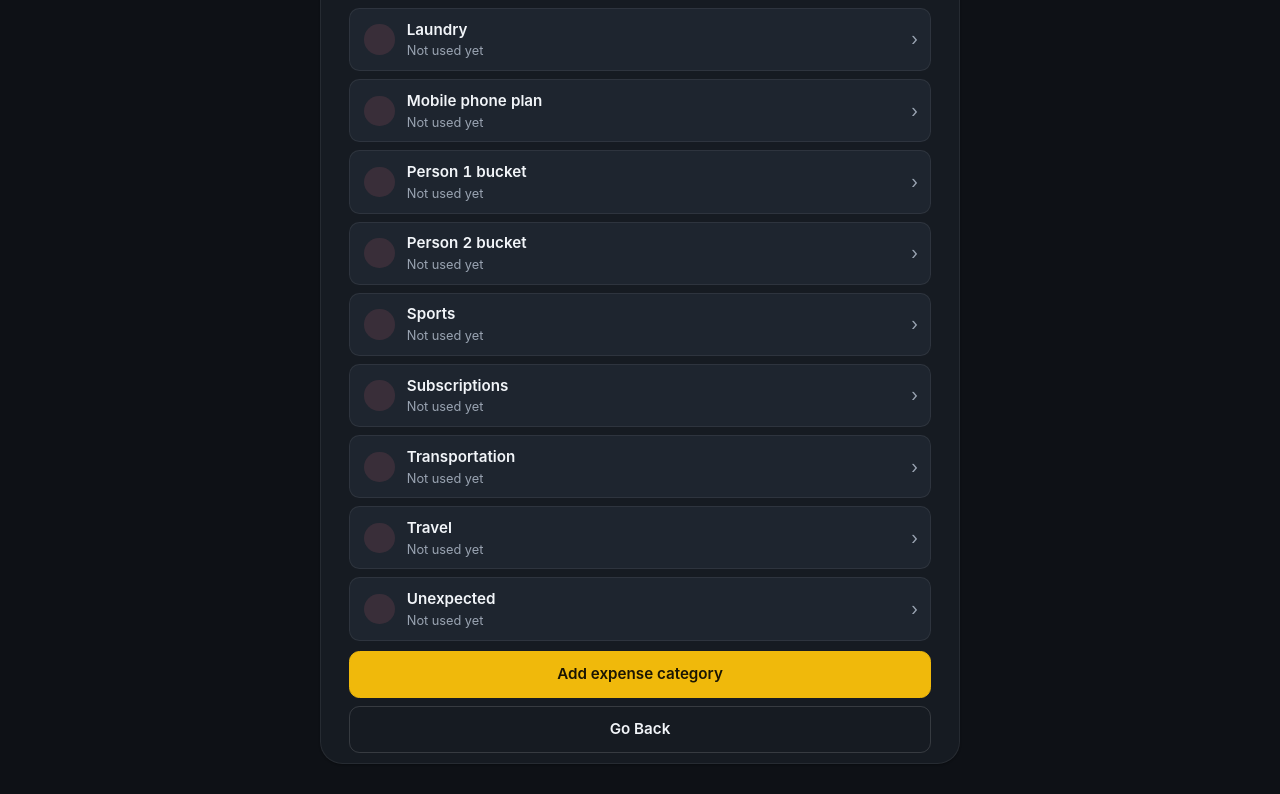
category + bucket creation (issue #100) › rejects an empty category name
(page scrolled)
Click the button "Add expense category" at (640, 674), box [349,651,931,698]
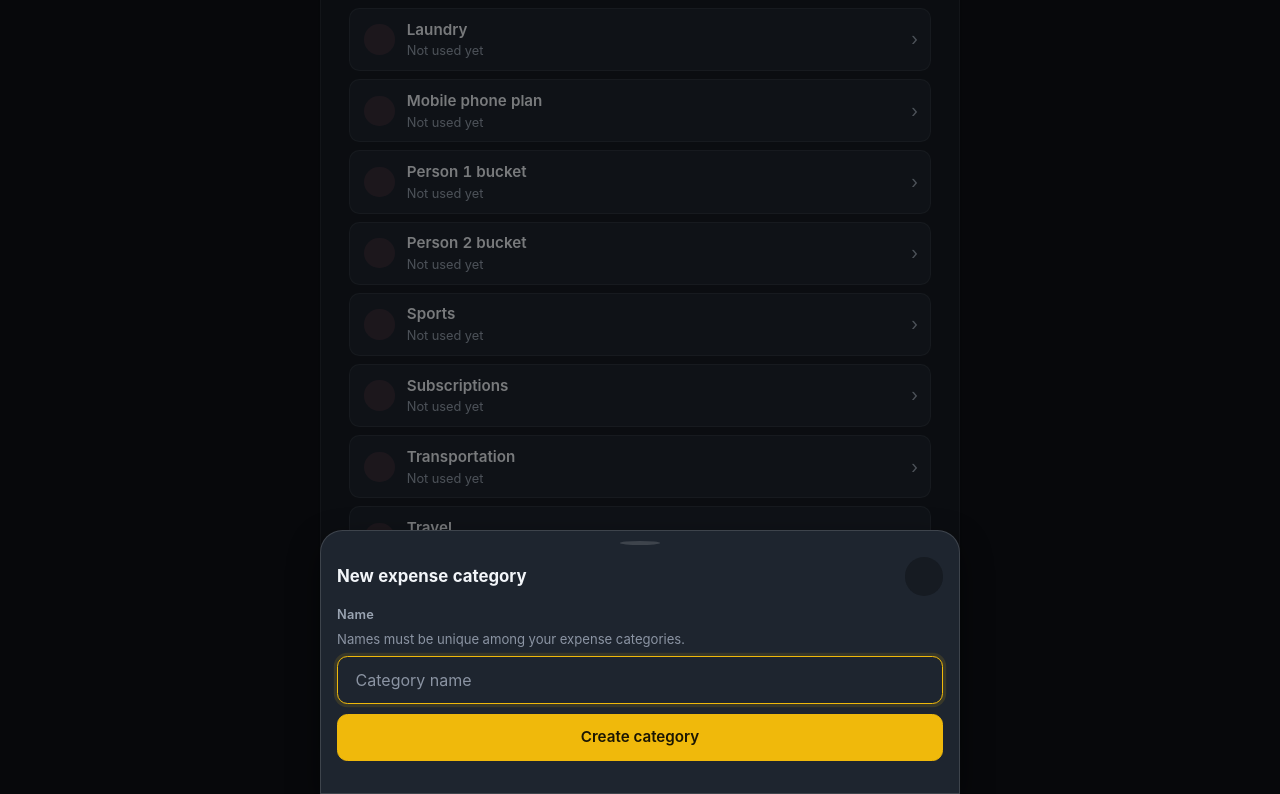
Click the button "Create category" at (640, 737), box [337,714,943,761]
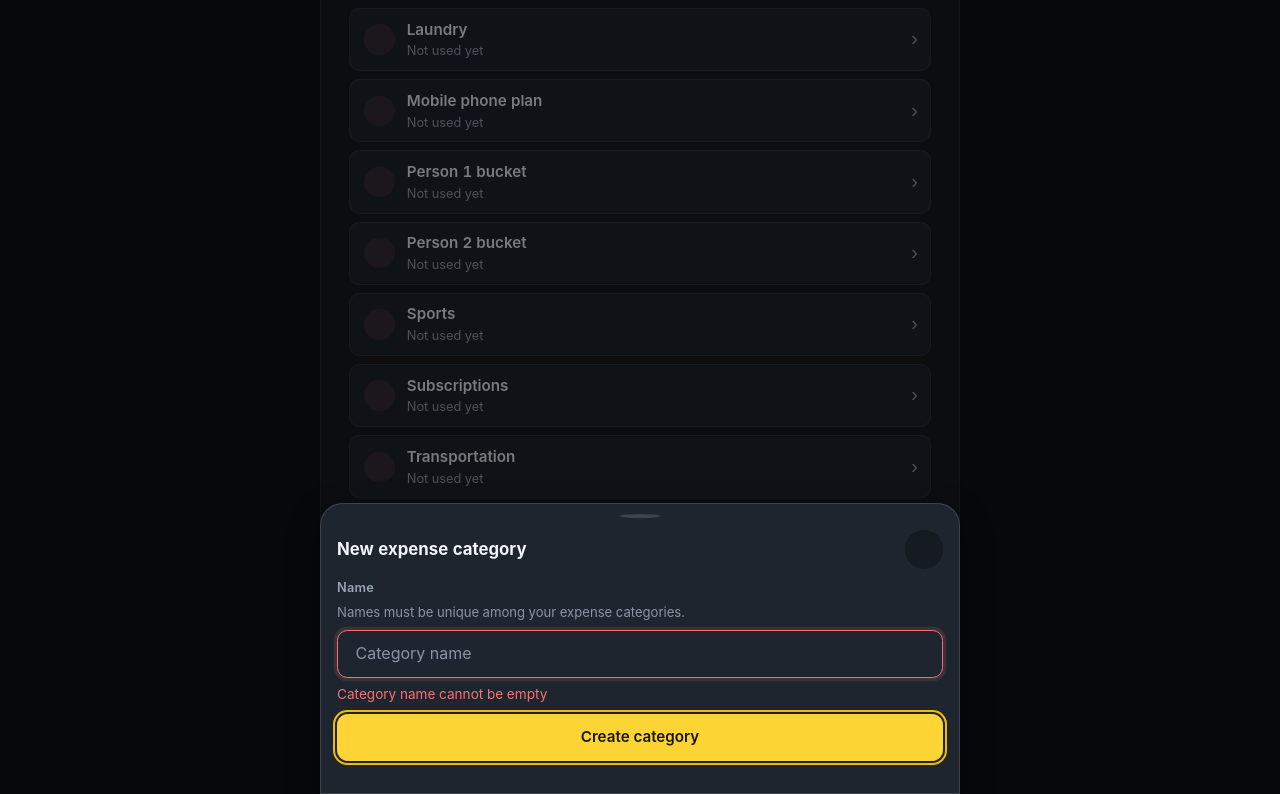
Now the message shows "cannot be empty", box [337,686,547,702]
